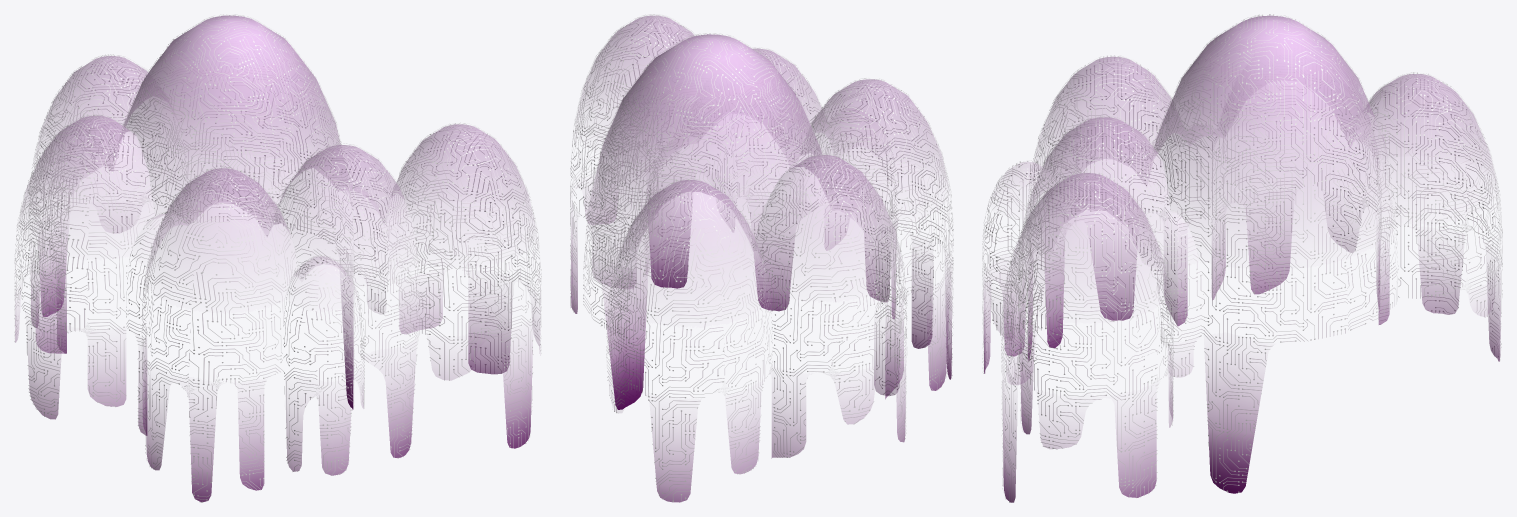
File: pm-dome-03.glb
The picture shows the model from 3 angles, left to right: view 1: azimuth 30°, elevation 25°; view 2: azimuth 150°, elevation 25°; view 3: azimuth 270°, elevation 25°; orthographic projection. The views are drawn at different scales.
Visible parts, largest first — view 1: Dome03_Art; view 2: Dome03_Art; view 3: Dome03_Art.
Boxes of the visible parts, <box> form: Dome03_Art: <box>14,14,541,502</box>; Dome03_Art: <box>570,14,953,502</box>; Dome03_Art: <box>982,14,1502,502</box>.
Bounding box in the file's own units: 38.49 × 36.09 × 40.54.
2 materials, 2 textured.
